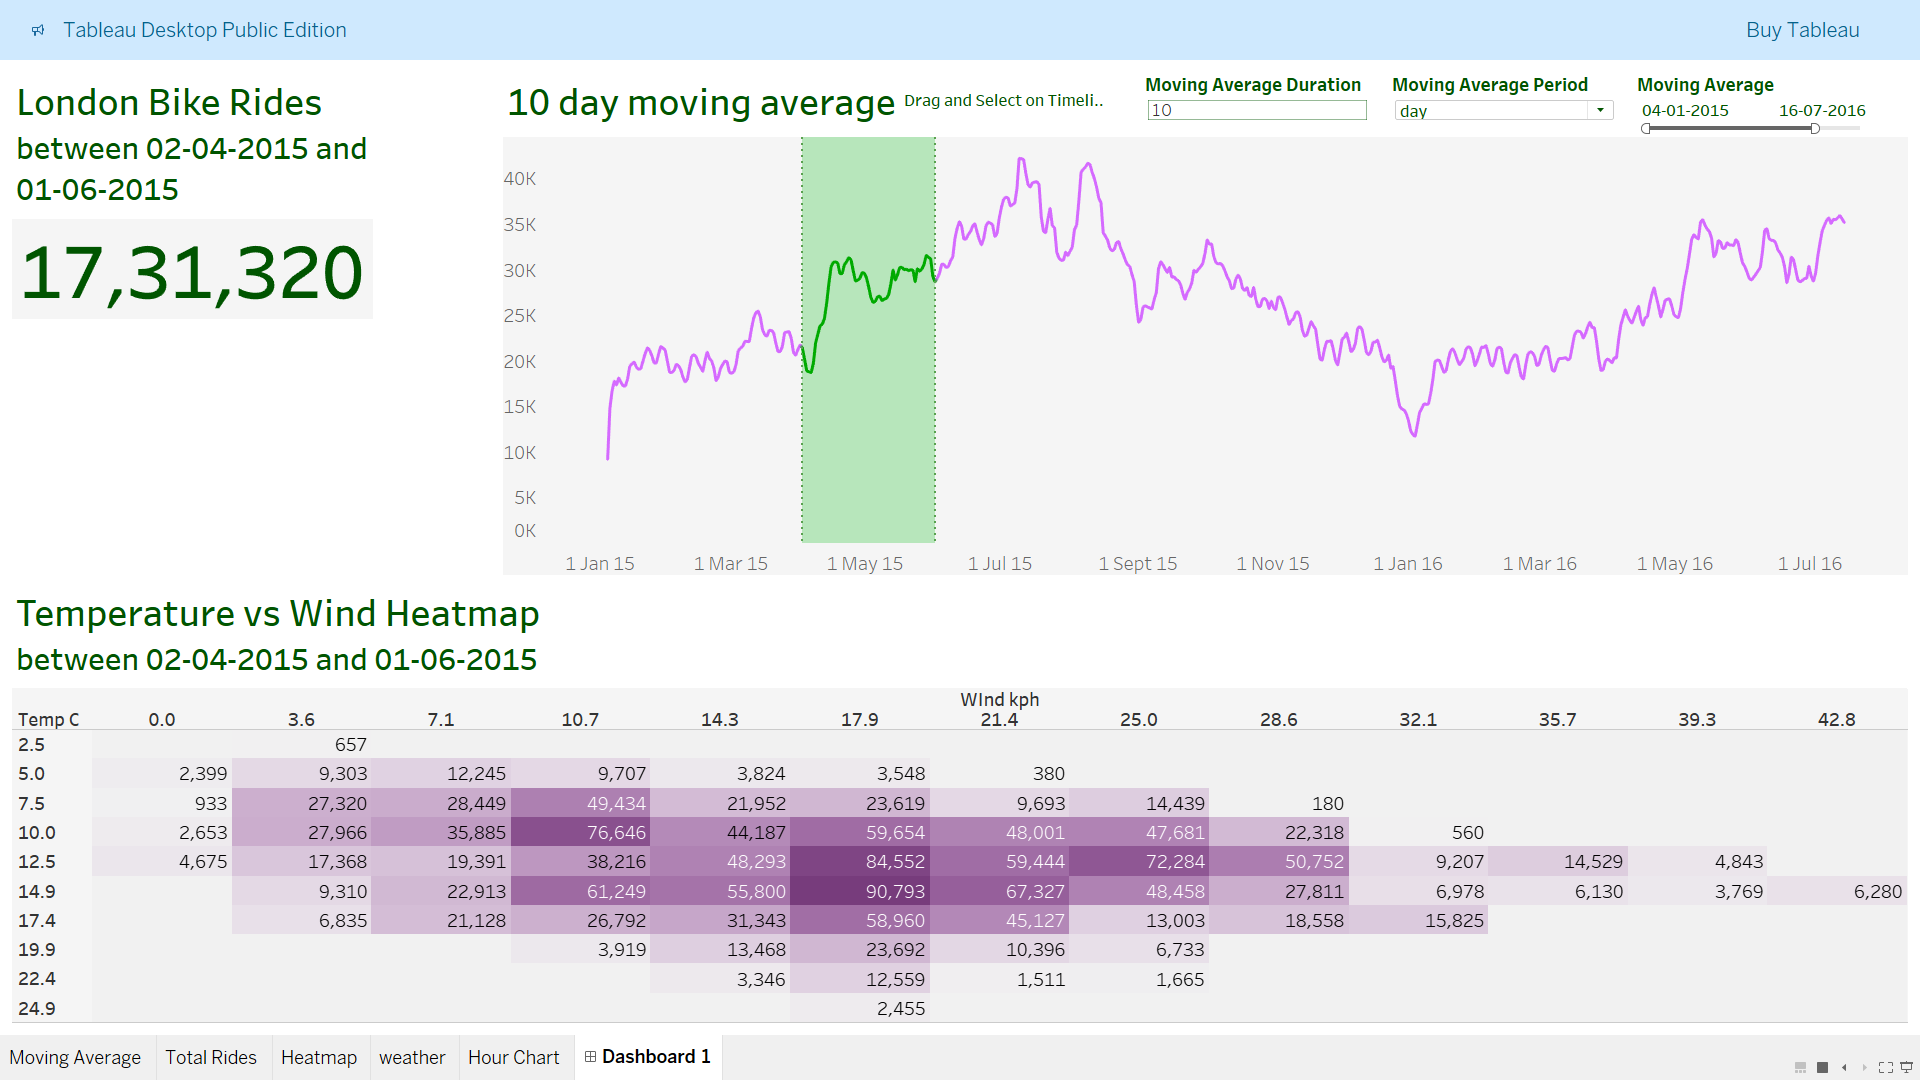

The page's visual inventory and layout, read from the dashboard file:
{"tool":"tableau","page":{"name":"Dashboard 1","canvas":[1000,1000],"units":"permille","ordinal":0},"visuals":[{"type":"worksheet","title":"Total Rides","mark":"Automatic","box":[5,10.7,255.1,521.6]},{"type":"worksheet","title":"Moving Average","mark":"Automatic","rows":["Calculation1"],"cols":["Calculation_757449221871304704"],"box":[260.1,10.7,734.9,521.6]},{"type":"parameter","param":"[Parameters].[Parameter 2]","box":[596.5,11.4,117.4,68.4]},{"type":"parameter","param":"[Parameters].[Parameter 1]","box":[724.7,11.7,117.1,62.5]},{"type":"filter","title":"Moving Average","param":"[federated.1t4jux61vs9h4i18gnibm1pfd5ej].[none:Calculation_757449221871304704:qk","box":[852.9,11.7,123,95]},{"type":"text","box":[468.8,23.9,106.5,34.2]},{"type":"worksheet","title":"Heatmap","mark":"Square","rows":["temp real C (bin)"],"cols":["Wind Speed Kph (bin)"],"box":[5,532.4,990,456.9]}]}

Visuals, with their boxes on the dashboard's canvas, which has no fixed pixel size, in thousandths of its width and height (x1, y1, x2, y2). These are canvas units, not pixel positions in the 1920x1080 screenshot, which may show the page scaled, cropped or inside an application window:
"Total Rides" worksheet: pyautogui.locateOnScreen(5, 11, 260, 532)
"Moving Average" worksheet: pyautogui.locateOnScreen(260, 11, 995, 532)
parameter: pyautogui.locateOnScreen(596, 11, 714, 80)
parameter: pyautogui.locateOnScreen(725, 12, 842, 74)
"Moving Average" filter: pyautogui.locateOnScreen(853, 12, 976, 107)
text: pyautogui.locateOnScreen(469, 24, 575, 58)
"Heatmap" worksheet (Square marks): pyautogui.locateOnScreen(5, 532, 995, 989)
